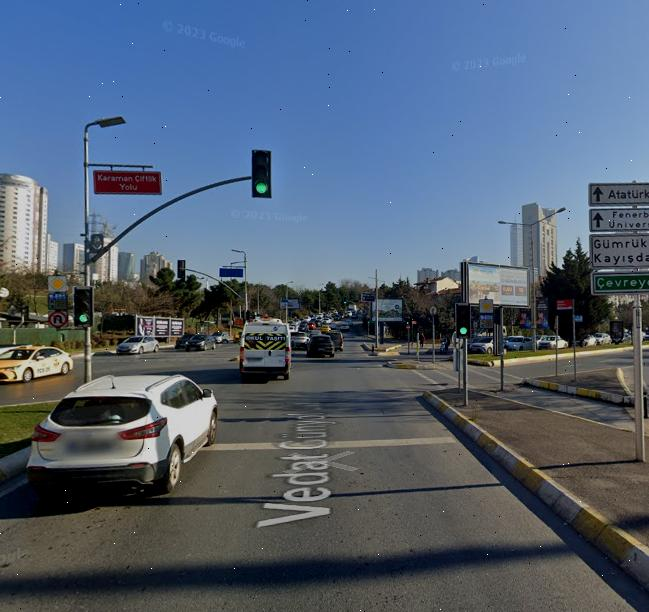greenlight: (253, 150, 273, 197), (76, 288, 93, 328), (454, 303, 472, 339)
